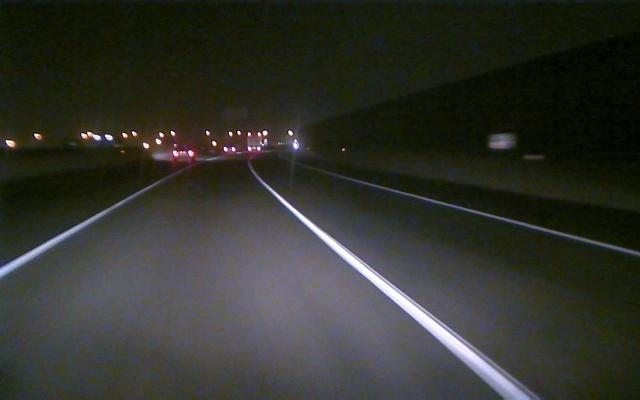lane: (260, 181, 540, 399), (338, 173, 640, 257), (1, 188, 147, 278)
